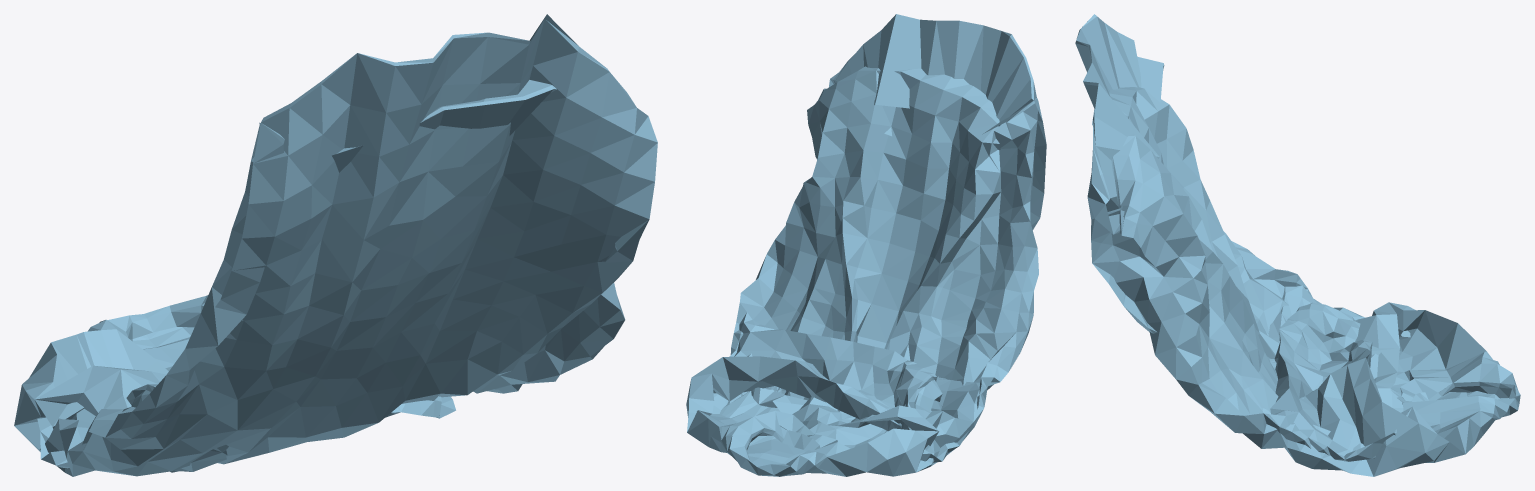
Rendered from frame_07.glb.
3 renders of one model, left to right at view 1: azimuth 30°, elevation 25°; view 2: azimuth 150°, elevation 25°; view 3: azimuth 270°, elevation 25°, orthographic. The views are drawn at different scales.
Parts seen in each view (by area): view 1: frame_07.obj; view 2: frame_07.obj; view 3: frame_07.obj.
Boxes of the visible parts, x1=… form: frame_07.obj: x1=14, y1=14, x2=657, y2=476; frame_07.obj: x1=686, y1=14, x2=1046, y2=476; frame_07.obj: x1=1075, y1=14, x2=1520, y2=476.
Bounding box in the file's own units: 1.05 × 1.18 × 1.29.
